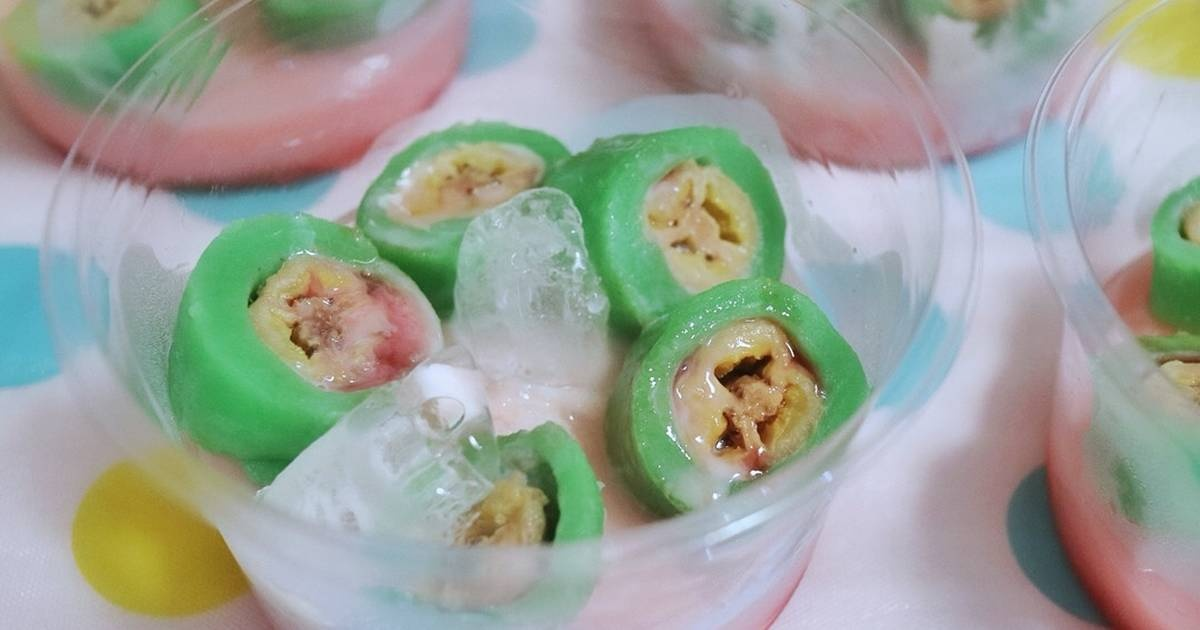pisang_ijo: (597, 273, 860, 521)
